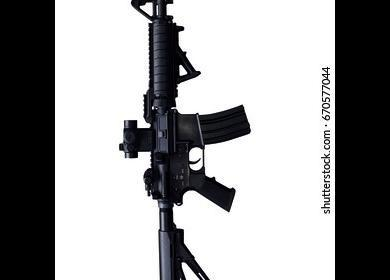gun: (118, 0, 252, 280)
